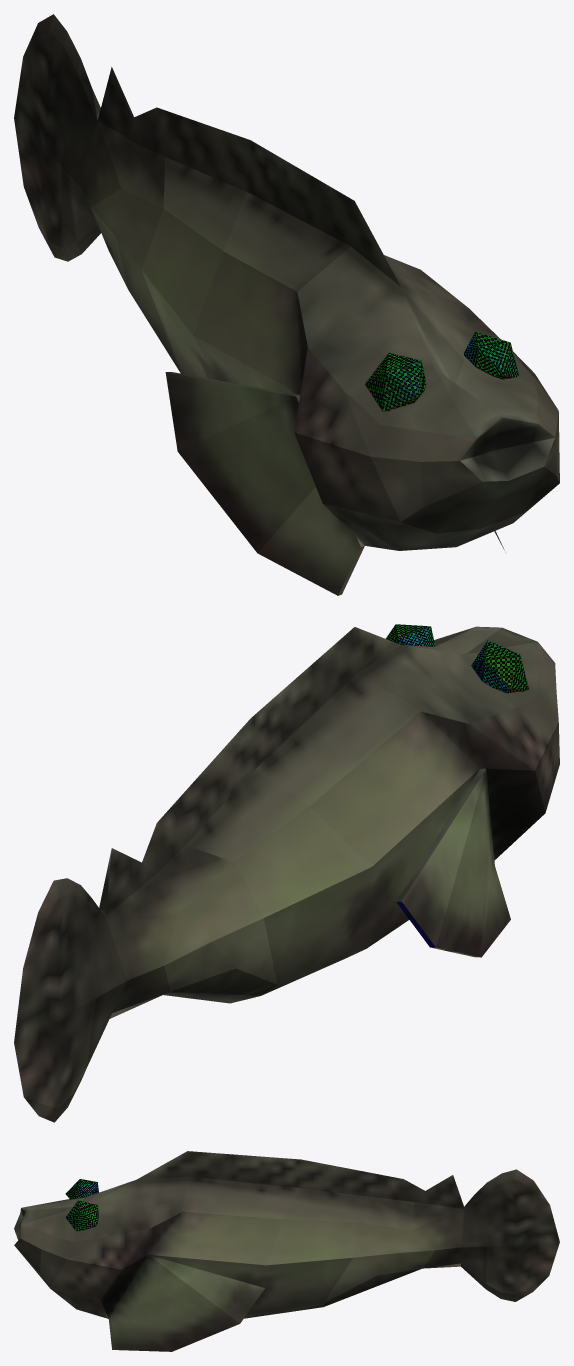
File: StoneFish.fbx
3 renders of one model, top to bottom at view 1: azimuth 30°, elevation 25°; view 2: azimuth 150°, elevation 25°; view 3: azimuth 270°, elevation 25°, orthographic. The views are drawn at different scales.
Parts seen in each view (by area): view 1: Stone_Fish, Eyes; view 2: Stone_Fish, Eyes; view 3: Stone_Fish, Eyes.
Boxes of the visible parts, x1,y1,x2,y2 form: Stone_Fish: (14,14,559,595); Eyes: (365,331,518,411); Stone_Fish: (14,626,559,1122); Eyes: (386,624,528,693); Stone_Fish: (14,1151,559,1351); Eyes: (65,1179,98,1231).
Size of the model in its own units: 2.06 by 2.5 by 6.99.
2 materials, 2 textured.
